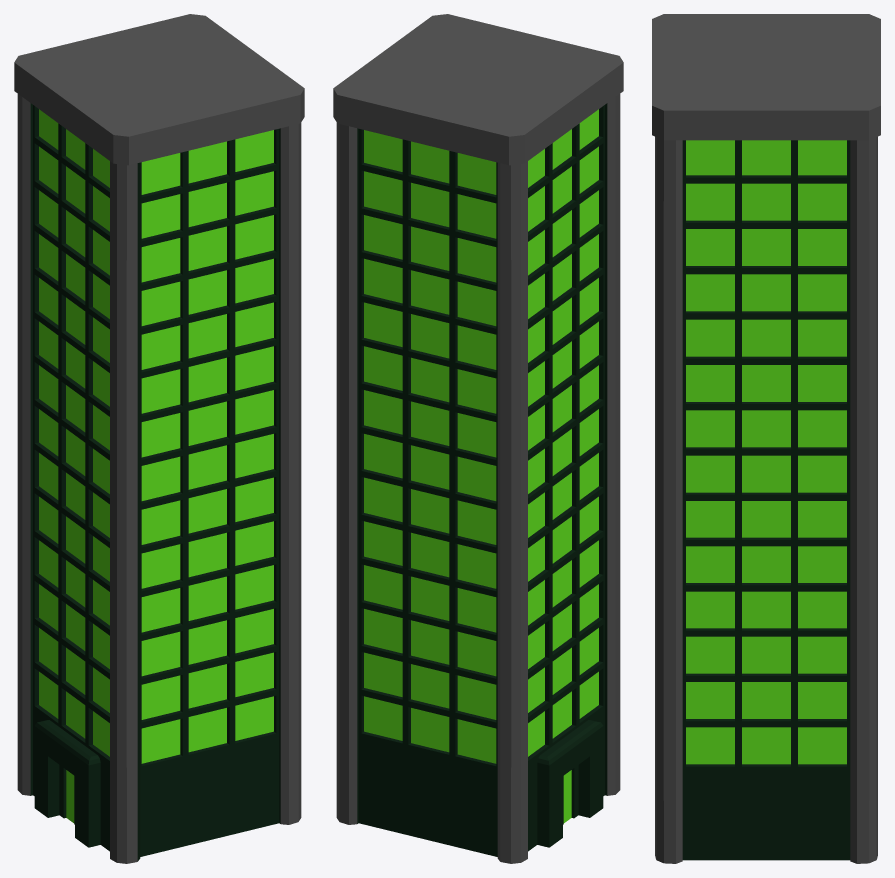
The model's file is skyscraperA.fbx.
The picture shows the model from 3 angles, left to right: view 1: azimuth 30°, elevation 25°; view 2: azimuth 150°, elevation 25°; view 3: azimuth 270°, elevation 25°; orthographic projection. The views are drawn at different scales.
Visible parts, largest first — view 1: SkyscraperA; view 2: SkyscraperA; view 3: SkyscraperA.
Boxes of the visible parts, <box> form: SkyscraperA: <box>14,14,304,863</box>; SkyscraperA: <box>333,14,623,863</box>; SkyscraperA: <box>652,14,880,863</box>.
Bounding box in the file's own units: 676 × 2431 × 668.
